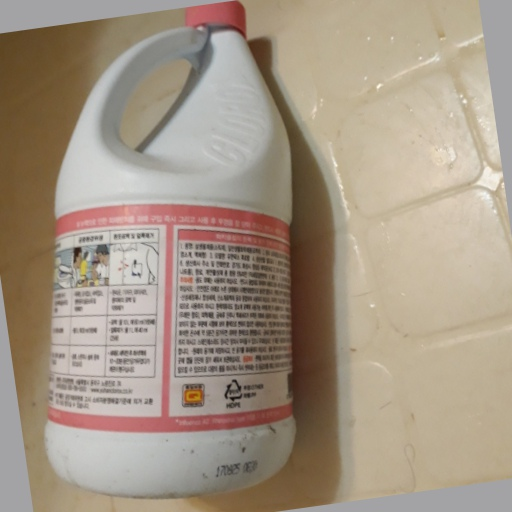Plastic_1: (52, 9, 300, 490)
